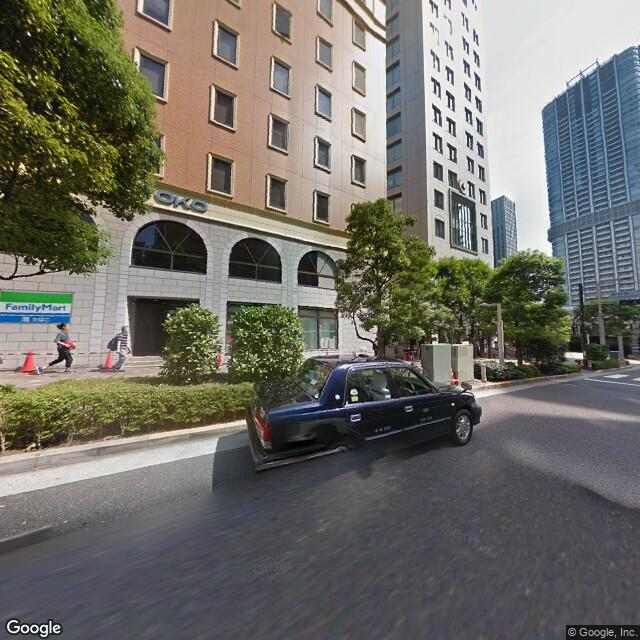family_mart: (2, 286, 74, 326)
